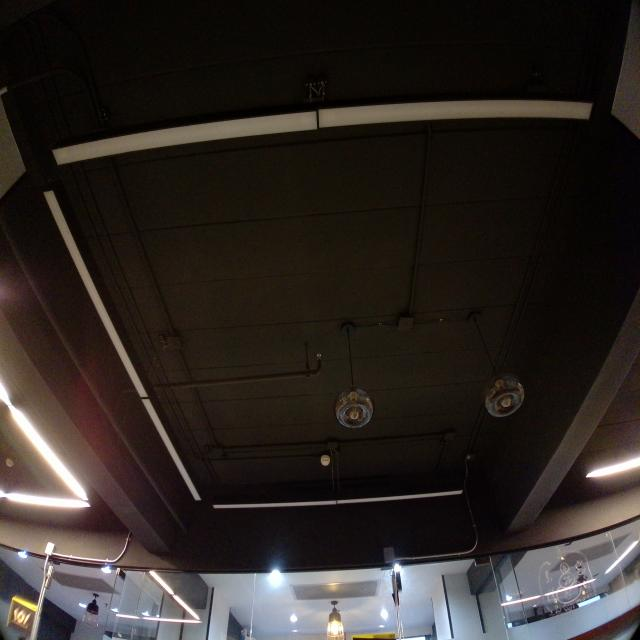lamp2_off: (34, 184, 208, 508), (46, 90, 601, 176), (211, 483, 471, 512)
